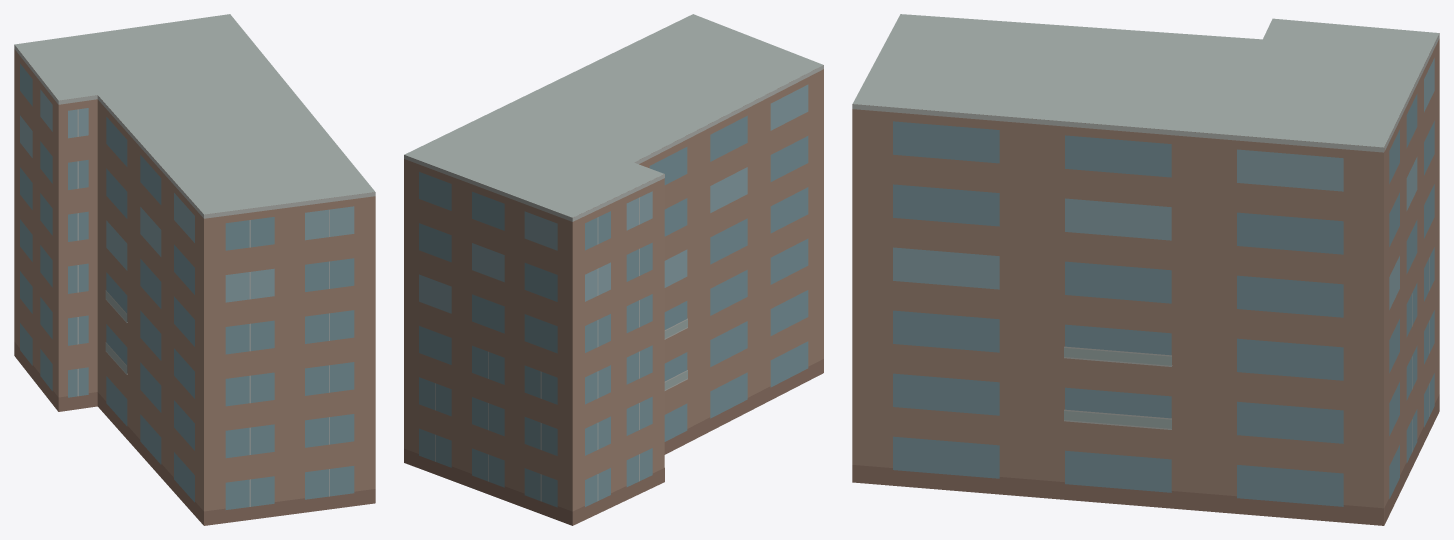
File: survey-upis-33046744.glb
3 views of the same model, side by side, from view 1: azimuth 30°, elevation 25°; view 2: azimuth 150°, elevation 25°; view 3: azimuth 270°, elevation 25° (orthographic). The views are drawn at different scales.
Parts seen in each view (by area): view 1: survey-upis-33046744.tmp; view 2: survey-upis-33046744.tmp; view 3: survey-upis-33046744.tmp.
Part boxes in pixels (x1,y1,x2,y2): survey-upis-33046744.tmp: (14,14,375,525); survey-upis-33046744.tmp: (404,14,823,525); survey-upis-33046744.tmp: (852,14,1439,525).
Size of the model in its own units: 13.78 by 18.2 by 25.6.
